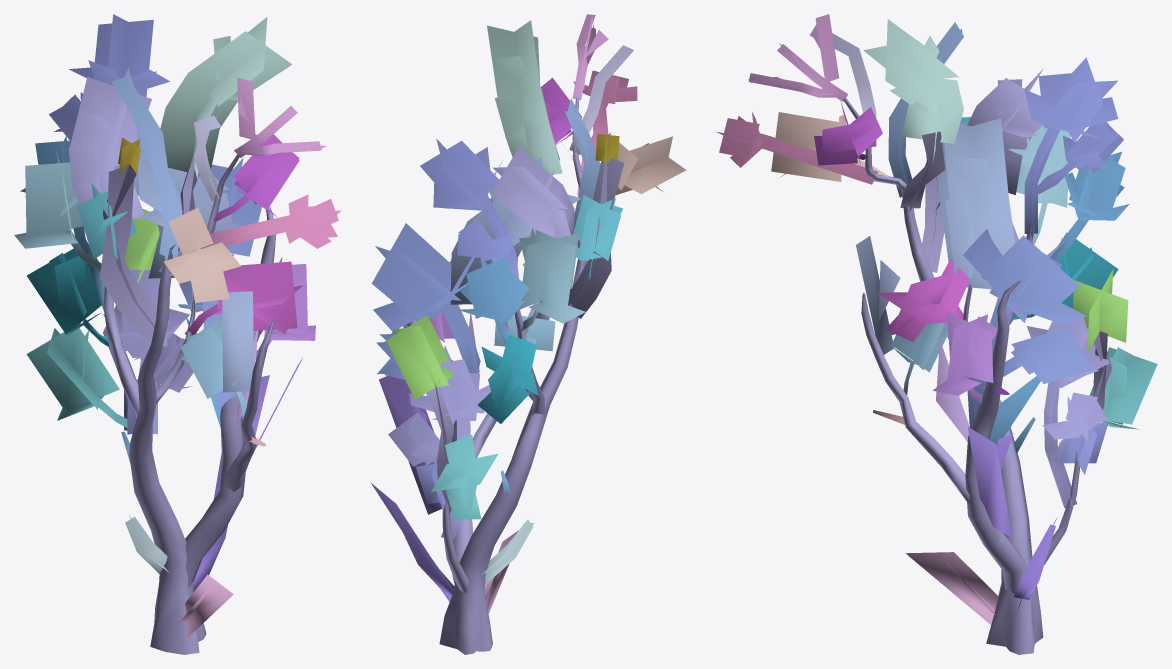
3 views of the same model, side by side, from view 1: azimuth 30°, elevation 25°; view 2: azimuth 150°, elevation 25°; view 3: azimuth 270°, elevation 25° (orthographic). The views are drawn at different scales.
Parts seen in each view (by area): view 1: SM_BS_Milkweed_140cm_HD; view 2: SM_BS_Milkweed_140cm_HD; view 3: SM_BS_Milkweed_140cm_HD.
Boxes of the visible parts, x1,y1,x2,y2 form: SM_BS_Milkweed_140cm_HD: [14, 14, 341, 654]; SM_BS_Milkweed_140cm_HD: [371, 14, 686, 654]; SM_BS_Milkweed_140cm_HD: [716, 14, 1157, 654].
Size of the model in its own units: 35.87 by 22.66 by 55.64.
